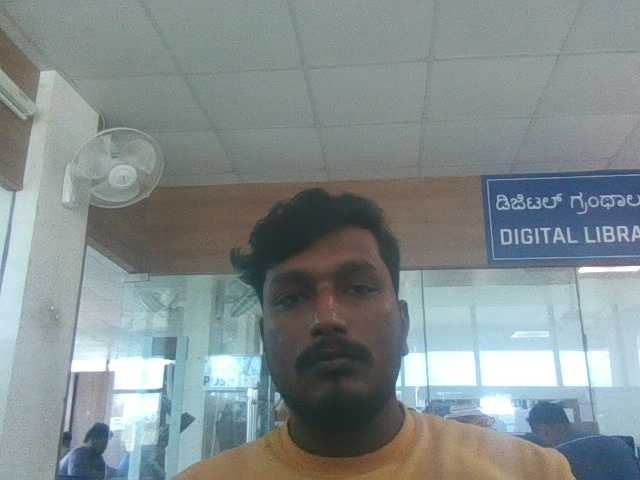real: (243, 168, 424, 424)
